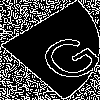G: (25, 25, 100, 86)
